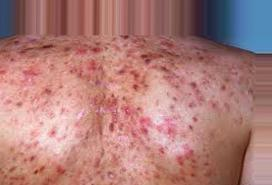Acne: (75, 38, 211, 103), (1, 114, 111, 185), (121, 115, 225, 183), (0, 39, 67, 108), (209, 56, 259, 129)
